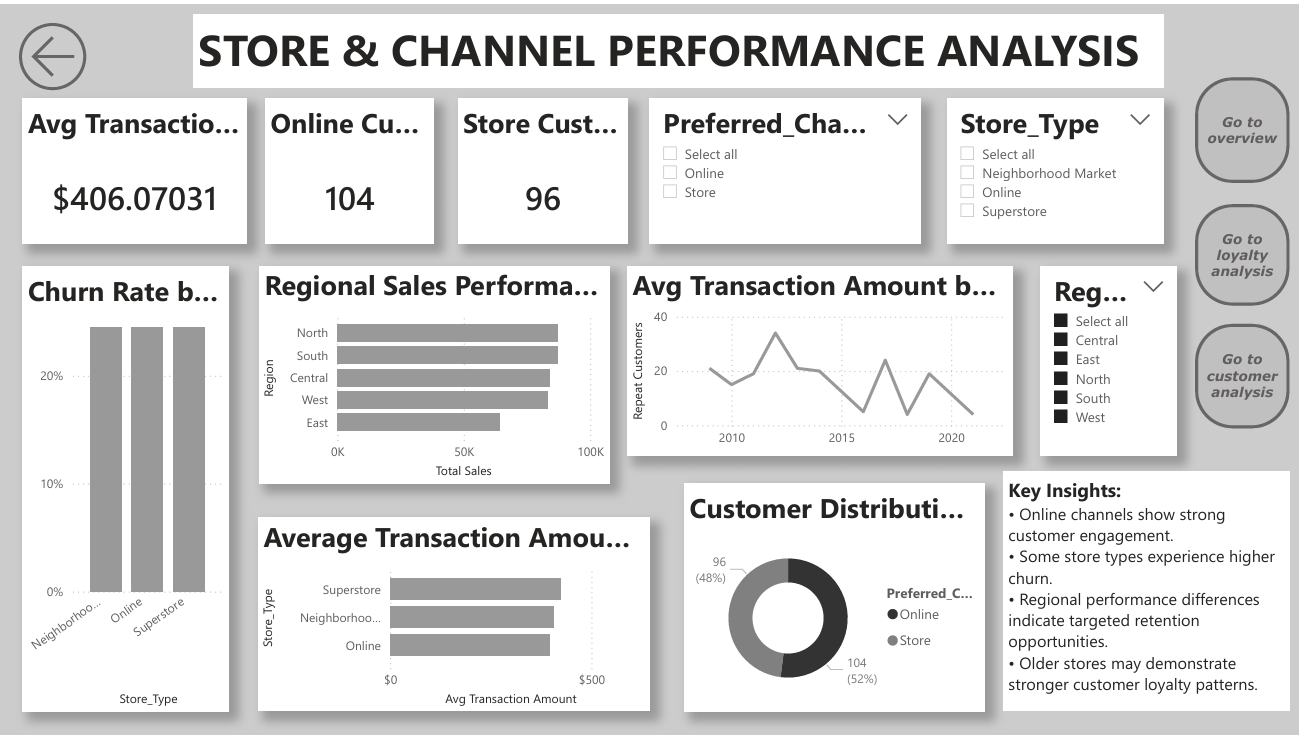

Layout of this report page (visuals, bound fields, positions):
{"tool":"powerbi","page":{"name":"Store & Channel Performance","canvas":[1280,720],"ordinal":2},"visuals":[{"type":"textbox","box":[189.5,10.4,956.5,71.6],"z":0},{"type":"cardVisual","title":"Avg Transaction Amount","fields":{"Data":["Measures_Table.Avg Transaction Amount"]},"box":[22.4,92.5,220.8,143.3],"z":1000},{"type":"cardVisual","title":"Online Customers","fields":{"Data":["Measures_Table.Online Customers"]},"box":[261.1,92.5,165.6,143.3],"z":2000},{"type":"cardVisual","title":"Store Customers","fields":{"Data":["Measures_Table.Store Customers"]},"box":[450.6,92.5,167.1,143.3],"z":3000},{"type":"clusteredBarChart","title":"Average Transaction Amount by Store Type","fields":{"Y":["Measures_Table.Avg Transaction Amount"],"Category":["Store_Locations.Store_Type"]},"box":[253.7,505.9,386.5,191],"z":4000},{"type":"clusteredColumnChart","title":"Churn Rate by Store Type","fields":{"Y":["Measures_Table.Churn Rate %"],"Category":["Store_Locations.Store_Type"]},"box":[22.4,258.1,202.9,438.7],"z":5000},{"type":"donutChart","title":"Customer Distribution by Channel","fields":{"Category":["Customer_Demographics.Preferred_Channel"],"Y":["Measures_Table.Total Customers"]},"box":[674.5,471.5,295.5,225.3],"z":6000},{"type":"clusteredBarChart","title":"Regional Sales Performance","fields":{"Category":["Customer_Demographics.Region"],"Y":["Measures_Table.Total Sales"]},"box":[255.2,258.1,344.7,213.4],"z":7000},{"type":"lineChart","title":"Avg Transaction Amount by Opening Year","fields":{"Category":["Store_Locations.Opening_Year"],"Y":["Measures_Table.Repeat Customers"]},"box":[617.8,258.1,380.5,186.5],"z":8000},{"type":"slicer","fields":{"Values":["Store_Locations.Store_Type"]},"box":[932.6,92.5,213.4,143.3],"z":9000},{"type":"slicer","fields":{"Values":["Store_Locations.Region"]},"box":[1025.1,258.1,134.3,186.5],"z":10000},{"type":"slicer","fields":{"Values":["Customer_Demographics.Preferred_Channel"]},"box":[640.2,92.5,267.1,143.3],"z":11000},{"type":"textbox","box":[987.8,461.1,282,235.8],"z":12000},{"type":"actionButton","box":[1177.3,71.6,92.5,104.5],"z":13000},{"type":"actionButton","box":[1177.3,197,92.5,100],"z":14000},{"type":"actionButton","box":[1177.3,314.9,92.5,103],"z":15000},{"type":"actionButton","box":[10.4,10.4,101.5,82.1],"z":16000}]}

Visuals, with their boxes in screenshot pixels (x1, y1, x2, y2), scaled from the page's 1280x720 canvas onto the 1302x737 screenshot:
textbox: <box>193,11,1166,84</box>
"Avg Transaction Amount" cardVisual: <box>23,95,247,241</box>
"Online Customers" cardVisual: <box>266,95,434,241</box>
"Store Customers" cardVisual: <box>458,95,628,241</box>
"Average Transaction Amount by Store Type" clusteredBarChart: <box>258,518,651,713</box>
"Churn Rate by Store Type" clusteredColumnChart: <box>23,264,229,713</box>
"Customer Distribution by Channel" donutChart: <box>686,483,987,713</box>
"Regional Sales Performance" clusteredBarChart: <box>260,264,610,483</box>
"Avg Transaction Amount by Opening Year" lineChart: <box>628,264,1015,455</box>
slicer - Store_Locations.Store_Type: <box>949,95,1166,241</box>
slicer - Store_Locations.Region: <box>1043,264,1179,455</box>
slicer - Customer_Demographics.Preferred_Channel: <box>651,95,923,241</box>
textbox: <box>1005,472,1292,713</box>
actionButton: <box>1198,73,1292,180</box>
actionButton: <box>1198,202,1292,304</box>
actionButton: <box>1198,322,1292,428</box>
actionButton: <box>11,11,114,95</box>
